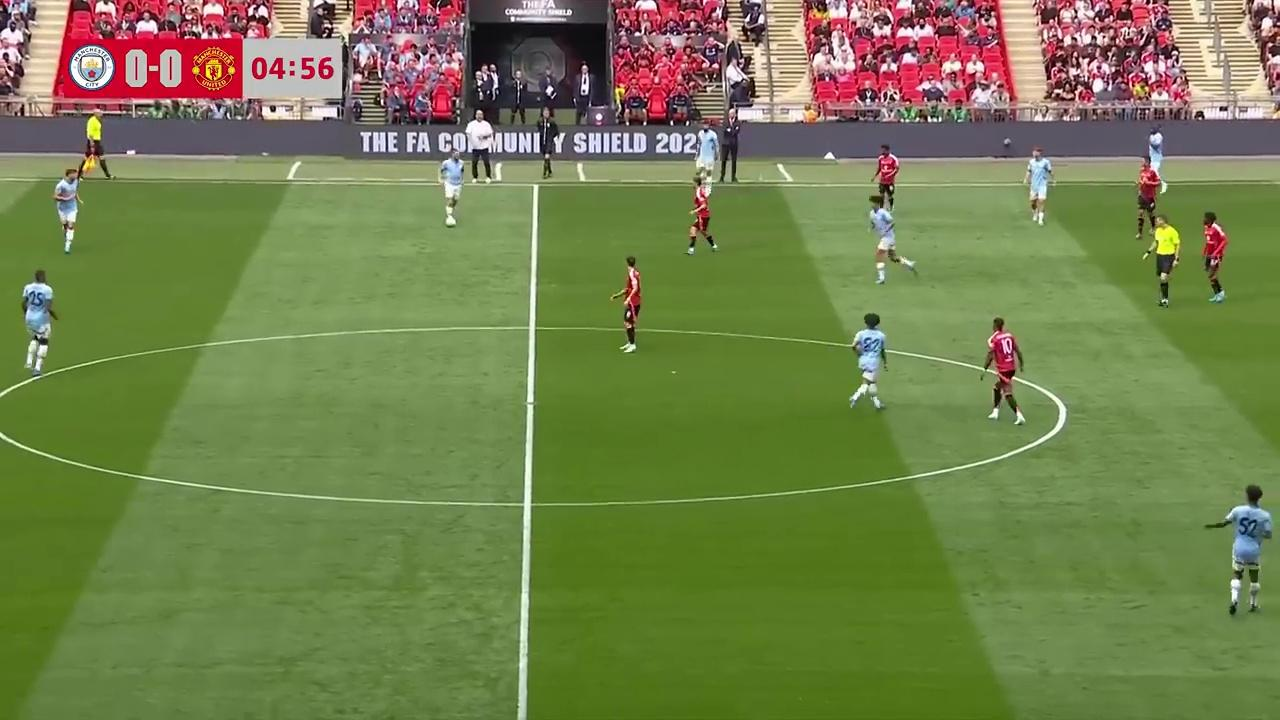player: (1210, 484, 1272, 619), (982, 317, 1026, 425), (21, 269, 58, 378), (867, 200, 915, 284), (848, 316, 887, 412), (609, 256, 642, 352), (53, 165, 83, 254), (686, 175, 718, 255), (1201, 212, 1227, 303), (1143, 121, 1175, 193), (1024, 147, 1053, 225), (1133, 159, 1160, 240), (689, 122, 720, 186), (439, 150, 463, 226), (873, 145, 898, 211)
referee: (1146, 215, 1180, 307), (78, 109, 112, 180)
